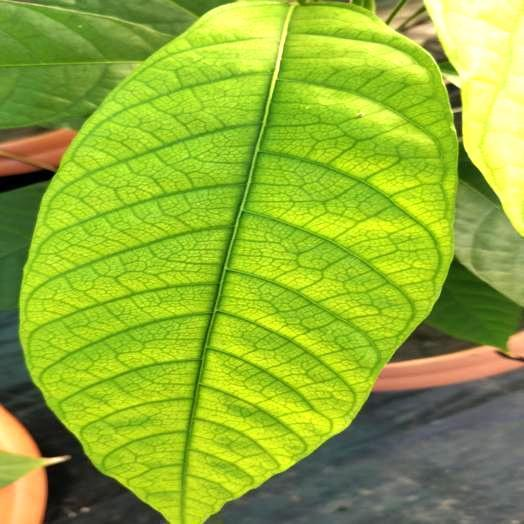Healthy Leaf: (0, 0, 232, 128), (456, 148, 523, 306), (426, 260, 520, 349)
Iron: (20, 0, 456, 523)
